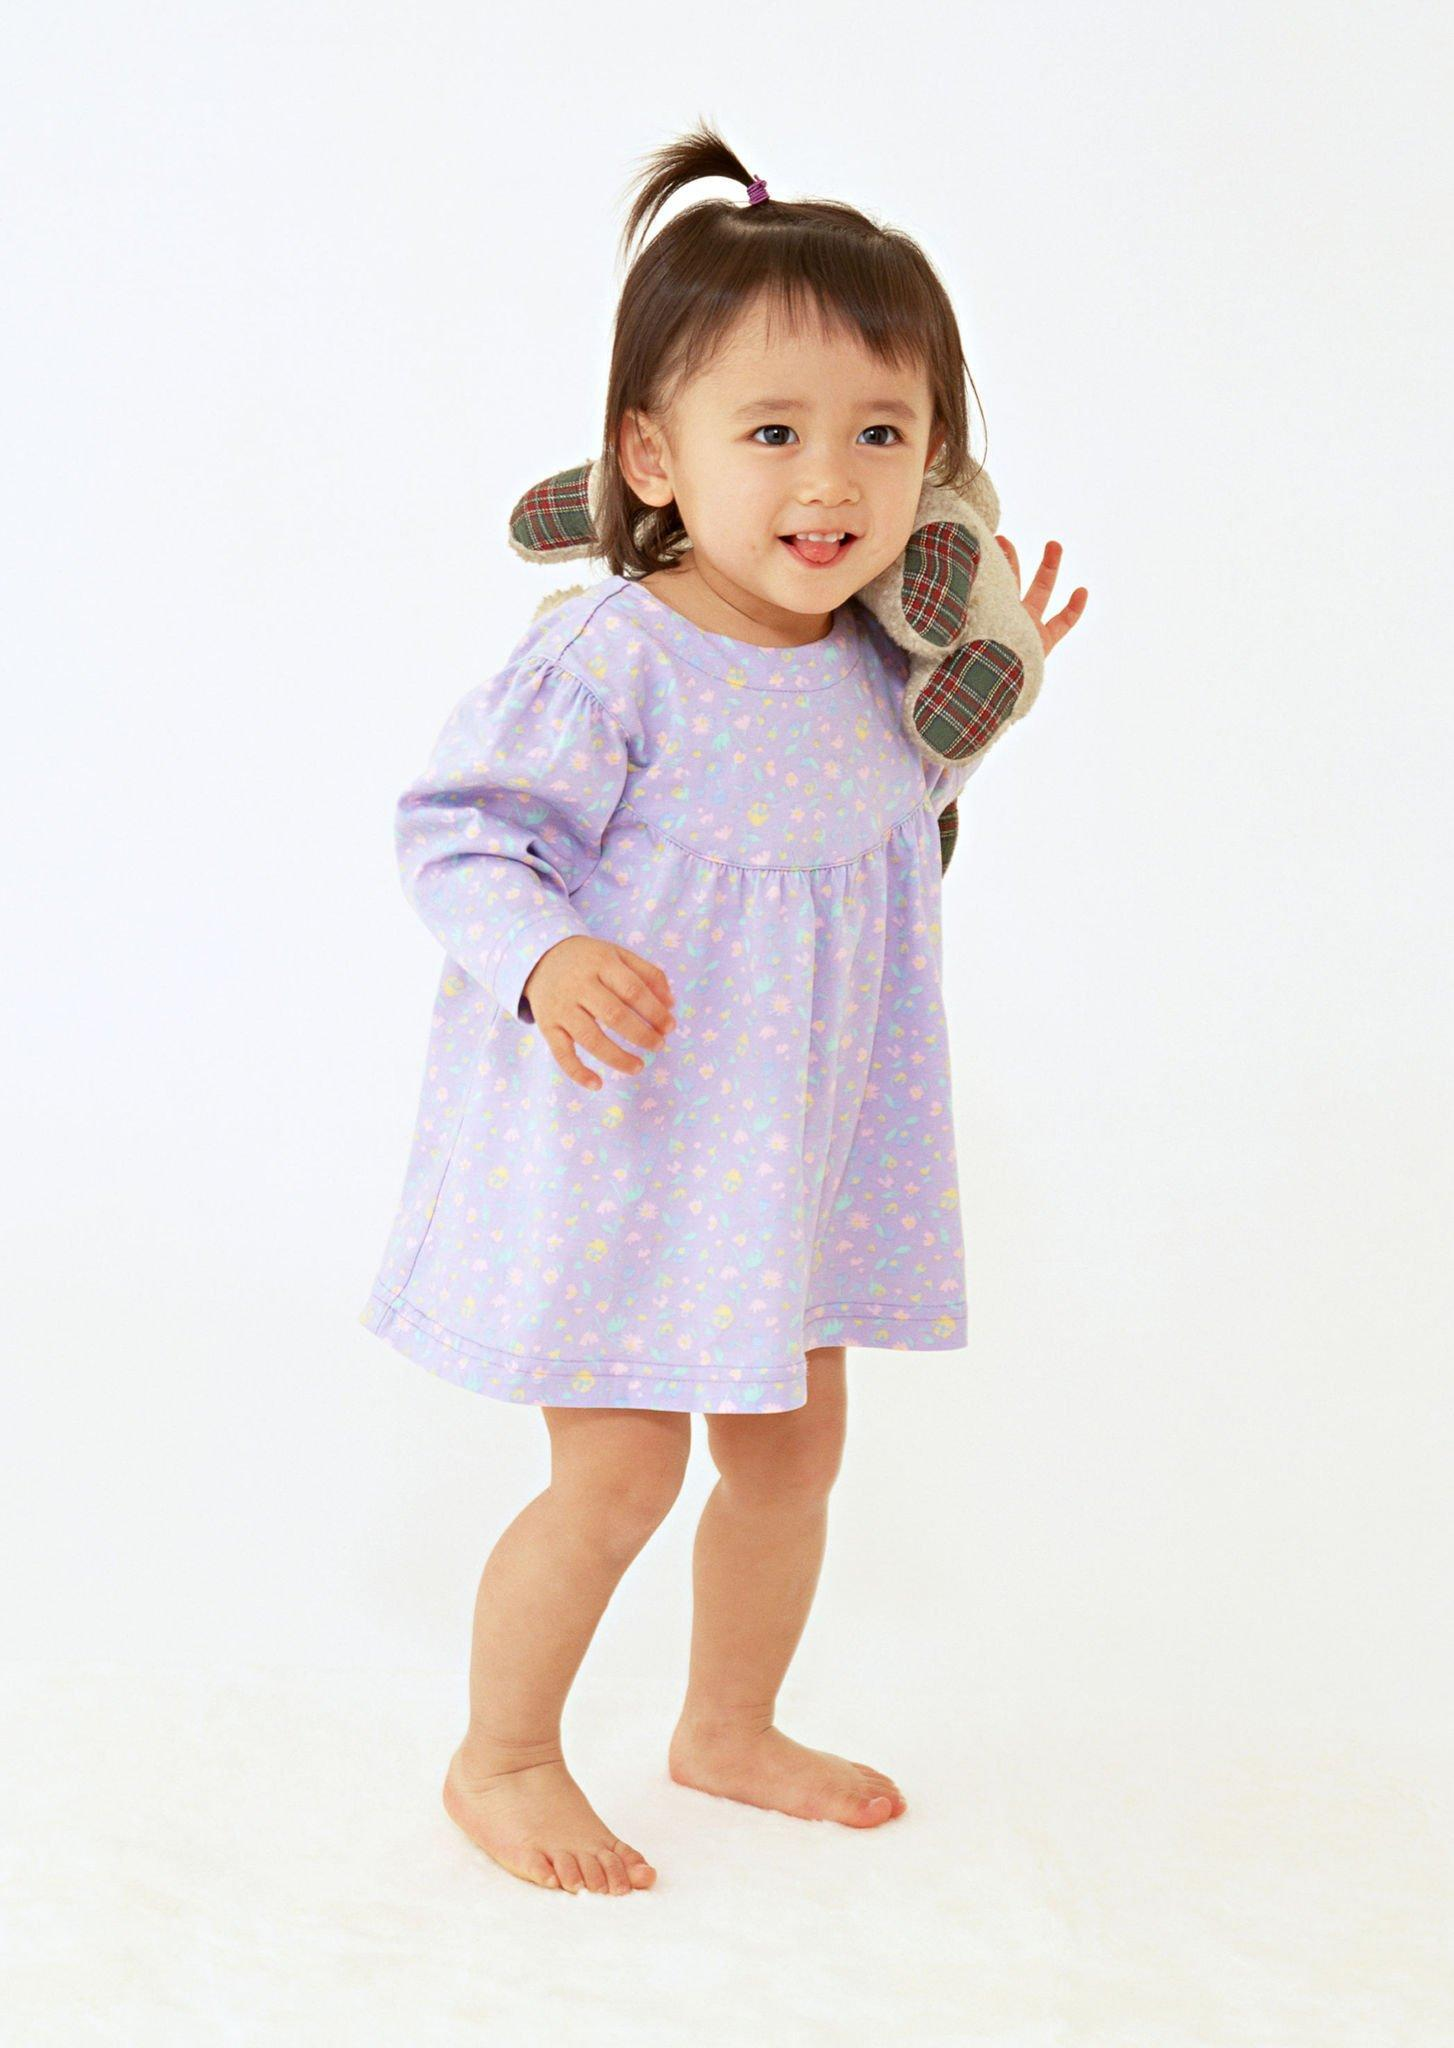Healthy: (661, 247, 927, 618)
